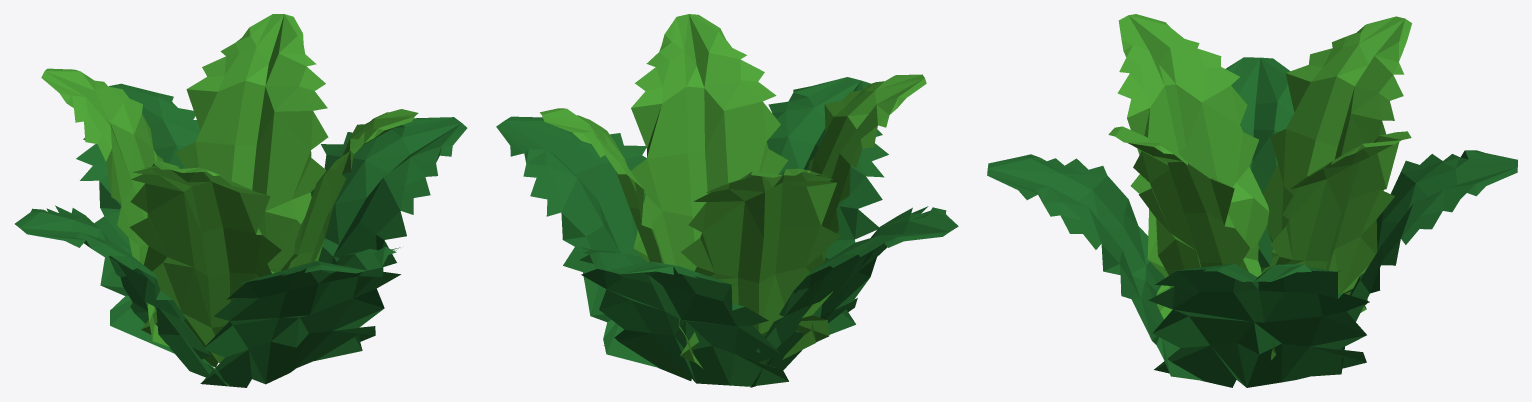
The model's file is krumas1.glb.
3 views of the same model, side by side, from view 1: azimuth 30°, elevation 25°; view 2: azimuth 150°, elevation 25°; view 3: azimuth 270°, elevation 25° (orthographic). The views are drawn at different scales.
Visible parts, largest first — view 1: Krumas; view 2: Krumas; view 3: Krumas.
Boxes of the visible parts, x1,y1,x2,y2 form: Krumas: [15, 14, 467, 387]; Krumas: [496, 14, 958, 387]; Krumas: [987, 14, 1517, 387].
Bounding box in the file's own units: 0.4593 × 0.274 × 0.4587.
